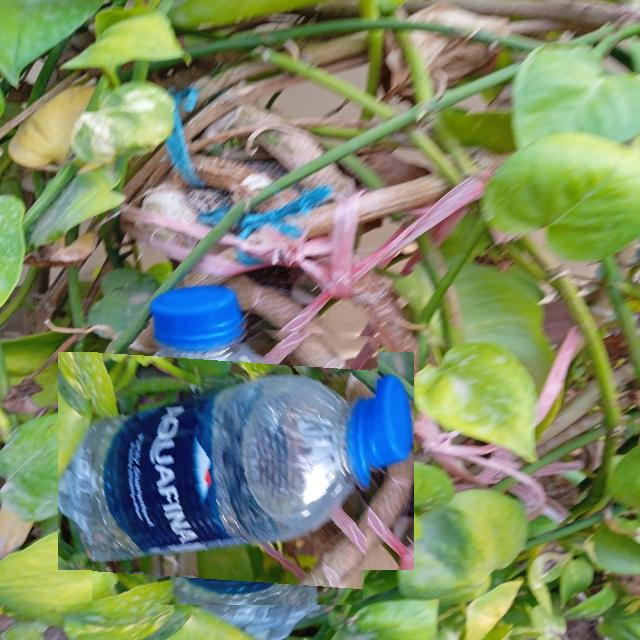Plastic: (92, 318, 380, 605)
